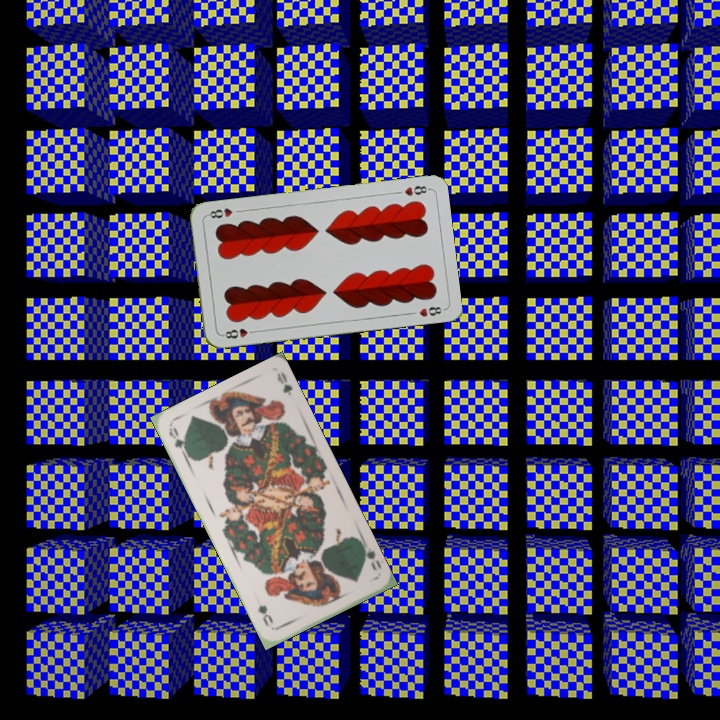GO: (165, 423, 194, 461), (358, 539, 384, 574)
H8: (218, 324, 259, 341), (400, 182, 432, 199)
